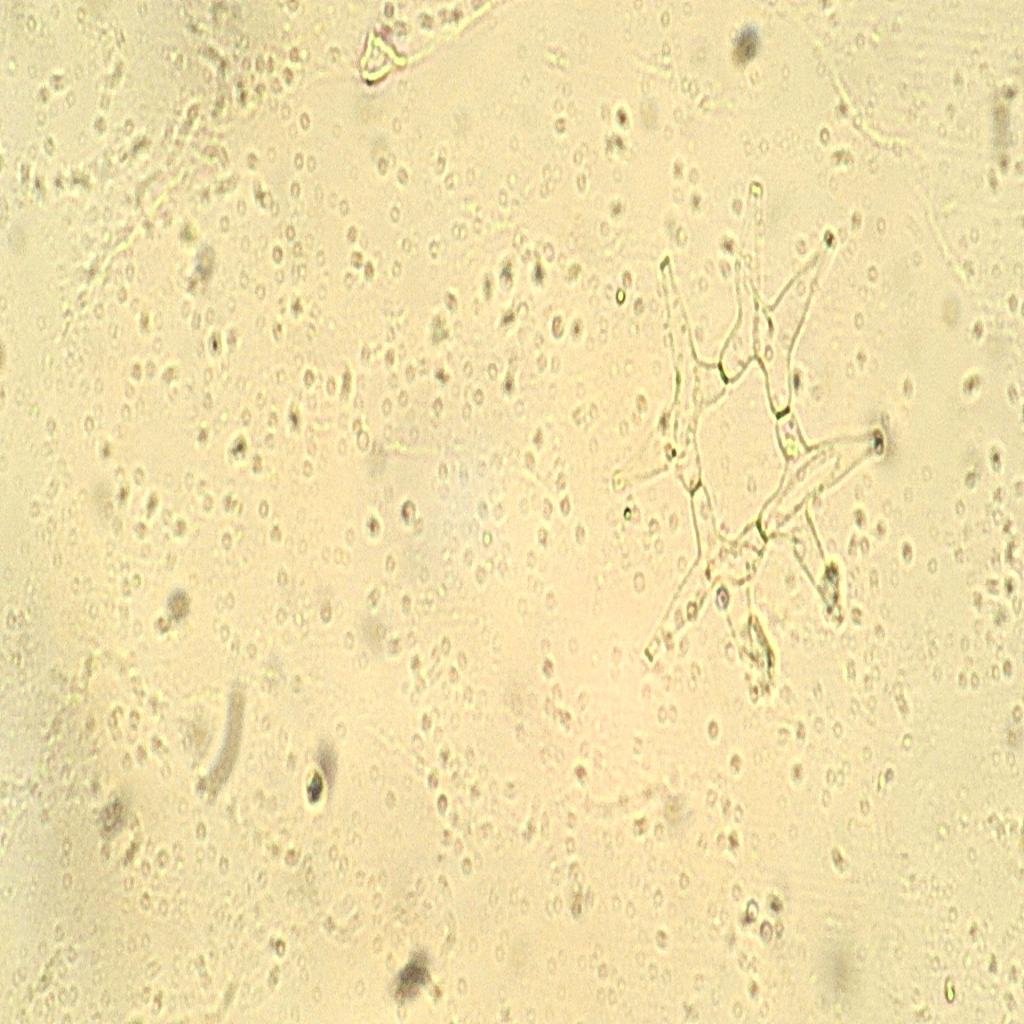Pediastrum_1F0: (607, 168, 895, 710)
